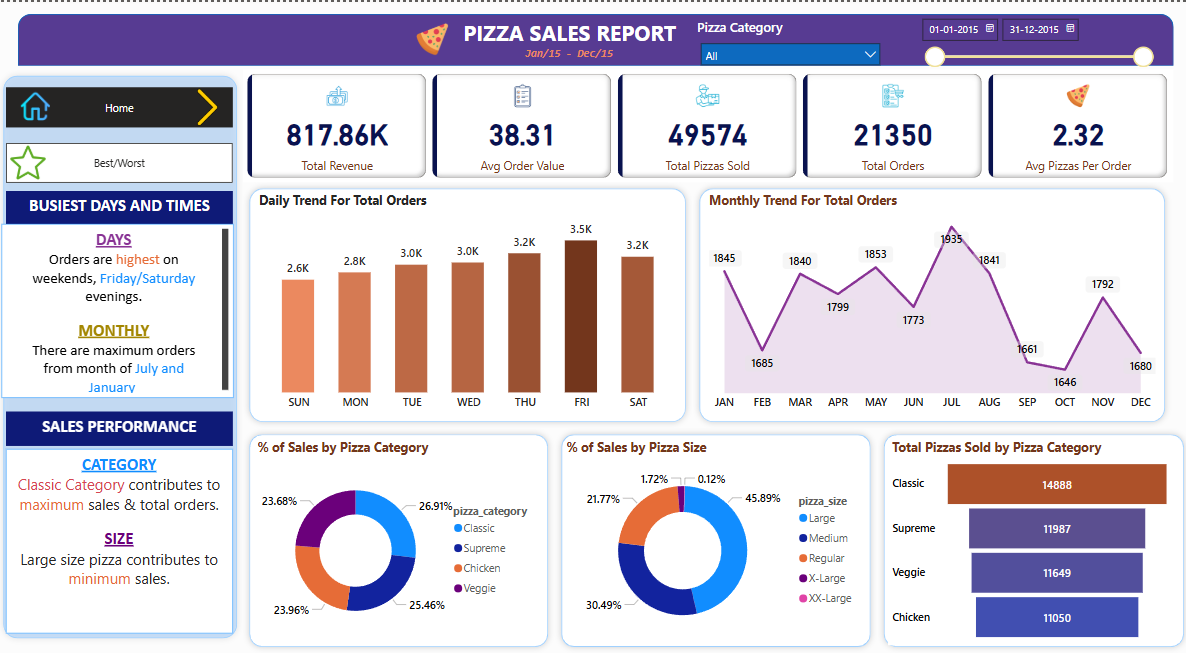

The page's visual inventory and layout, read from the dashboard file:
{"tool":"powerbi","page":{"name":"Home","canvas":[1500,820],"ordinal":0},"visuals":[{"type":"shape","box":[0,85,310,723.3],"z":0},{"type":"cardVisual","fields":{"Data":["pizza_sales.Total Revenue","pizza_sales.Avg Order Value","pizza_sales.Total Pizzas Sold","pizza_sales.Total Orders","pizza_sales.Avg Pizzas Per Order"]},"box":[310,85,1170,141.7],"z":1000},{"type":"shape","box":[26.7,15,1453.3,65],"z":2000},{"type":"textbox","box":[575,15,290,56.7],"z":3000},{"type":"textbox","box":[600,48.3,238.3,36.7],"z":4000},{"type":"image","box":[518.3,20,56.7,51.7],"z":5000},{"type":"shape","box":[310,226.7,565,310],"z":6000},{"type":"columnChart","title":"Daily Trend For Total Orders","fields":{"Category":["pizza_sales.Order Day"],"Y":["pizza_sales.Total Orders"]},"box":[325,238.3,536.7,285],"z":7000},{"type":"shape","box":[875,226.7,601.7,310],"z":8000},{"type":"areaChart","title":"Monthly Trend For Total Orders","fields":{"Category":["pizza_sales.Order Month"],"Y":["pizza_sales.Total Orders"]},"box":[890,238.3,571.7,285],"z":9000},{"type":"shape","box":[310,536.7,391.7,283.3],"z":10000},{"type":"shape","box":[701.7,536.7,405,283.3],"z":11000},{"type":"shape","box":[1106.7,536.7,393.3,283.3],"z":12000},{"type":"donutChart","title":"% of Sales by Pizza Category","fields":{"Category":["pizza_sales.pizza_category"],"Y":["pizza_sales.Total Revenue"]},"box":[323.3,548.3,365,260],"z":13000},{"type":"donutChart","title":"% of Sales by Pizza Size","fields":{"Y":["pizza_sales.Total Revenue"],"Category":["pizza_sales.pizza_size"]},"box":[711.7,548.3,381.7,260],"z":14000},{"type":"funnel","title":"Total Pizzas Sold by Pizza Category","fields":{"Category":["pizza_sales.pizza_category"],"Y":["pizza_sales.Total Pizzas Sold"]},"box":[1120,548.3,360,260],"z":15000},{"type":"textbox","box":[11.7,238.3,285,41.7],"z":16000},{"type":"textbox","box":[5,280,291.7,218.3],"z":17000},{"type":"textbox","box":[11.7,561.7,285,231.7],"z":18000},{"type":"textbox","box":[11.7,515,285,43.3],"z":19000},{"type":"slicer","title":"Pizza Category","fields":{"Values":["pizza_sales.pizza_category"]},"box":[875,20,245,65],"z":20000},{"type":"slicer","title":"Pizza Category","fields":{"Values":["pizza_sales.order_date"]},"box":[1150,11.7,311.7,73.3],"z":21000},{"type":"pageNavigator","box":[11.7,106.7,285,50],"z":22000},{"type":"pageNavigator","box":[11.7,176.7,285,50],"z":23000},{"type":"image","box":[221.7,103.3,88.3,56.7],"z":24000},{"type":"image","box":[11.7,108.3,73.3,46.7],"z":25000},{"type":"image","box":[11.7,173.3,55,56.7],"z":26000}]}

Visuals, with their boxes in screenshot pixels (x1, y1, x2, y2), scaled from the page's 1500x820 canvas onto the 1186x653 screenshot:
shape: bbox(0, 68, 245, 644)
cardVisual - pizza_sales.Total Revenue x pizza_sales.Avg Order Value: bbox(245, 68, 1170, 181)
shape: bbox(21, 12, 1170, 64)
textbox: bbox(455, 12, 684, 57)
textbox: bbox(474, 38, 663, 68)
image: bbox(410, 16, 455, 57)
shape: bbox(245, 181, 692, 427)
"Daily Trend For Total Orders" columnChart: bbox(257, 190, 681, 417)
shape: bbox(692, 181, 1168, 427)
"Monthly Trend For Total Orders" areaChart: bbox(704, 190, 1156, 417)
shape: bbox(245, 427, 555, 652)
shape: bbox(555, 427, 875, 652)
shape: bbox(875, 427, 1185, 652)
"% of Sales by Pizza Category" donutChart: bbox(256, 437, 544, 644)
"% of Sales by Pizza Size" donutChart: bbox(563, 437, 865, 644)
"Total Pizzas Sold by Pizza Category" funnel: bbox(886, 437, 1170, 644)
textbox: bbox(9, 190, 235, 223)
textbox: bbox(4, 223, 235, 397)
textbox: bbox(9, 447, 235, 632)
textbox: bbox(9, 410, 235, 445)
"Pizza Category" slicer: bbox(692, 16, 886, 68)
"Pizza Category" slicer: bbox(909, 9, 1156, 68)
pageNavigator: bbox(9, 85, 235, 125)
pageNavigator: bbox(9, 141, 235, 181)
image: bbox(175, 82, 245, 127)
image: bbox(9, 86, 67, 123)
image: bbox(9, 138, 53, 183)
